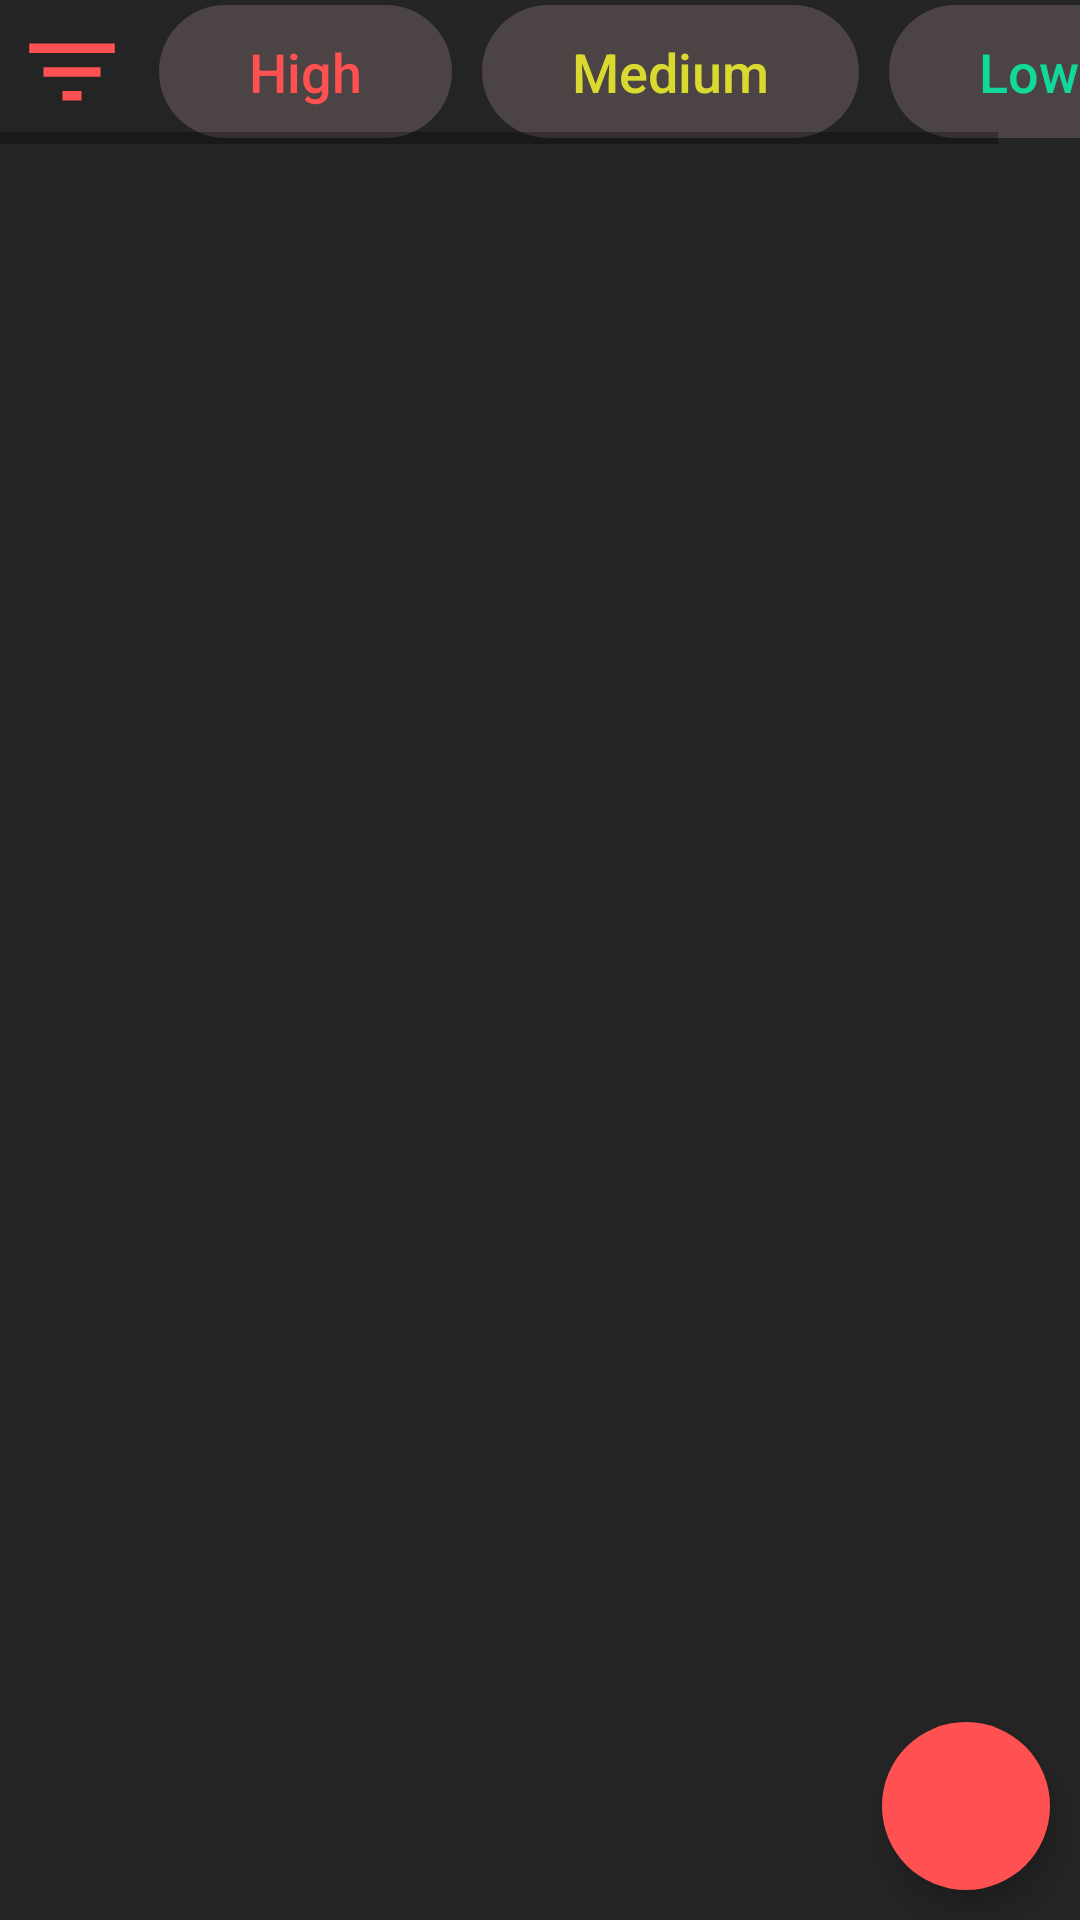

Screen size 1080px×1920px. Icon name, then its box in pixels as Rect(x1, y1, x2, y2):
filter list: Rect(29, 43, 115, 101)
